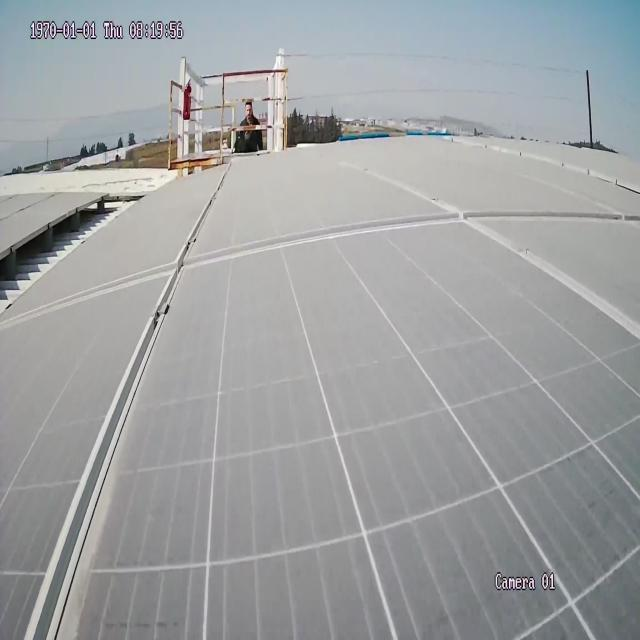interior panel: (0, 152, 640, 638)
outher panel: (0, 187, 154, 327)
